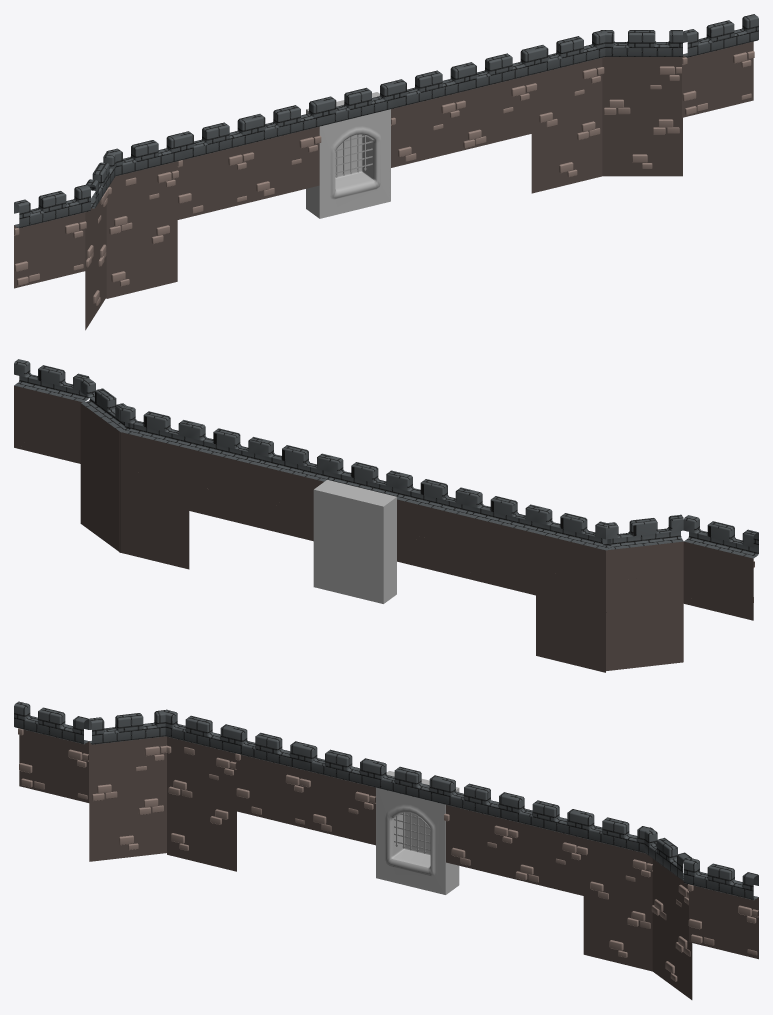
Rendered from Castle_Wall.fbx.
3 renders of one model, top to bottom at view 1: azimuth 30°, elevation 25°; view 2: azimuth 150°, elevation 25°; view 3: azimuth 330°, elevation 25°, orthographic. The views are drawn at different scales.
Parts seen in each view (by area): view 1: Plane.001 (×8), Plane (×8), polySurface2, Plane.006 (×2), Plane.005 (×2), Plane.004, Plane.003, Plane2 (×2), Plane1, gateFence; view 2: Plane.001 (×8), Plane (×8), polySurface2, Plane.005 (×2), Plane.006 (×2), Plane.004, Plane.003, Plane2 (×2), Plane1; view 3: Plane.001 (×8), Plane (×8), Plane.006 (×2), polySurface2, Plane.005 (×2), Plane.004, Plane.003, Plane2 (×2), Plane1, gateFence.
Part boxes in pixels (bbox=[...]): Plane.001 (×8): bbox=[14, 41, 753, 288]; Plane (×8): bbox=[14, 14, 758, 228]; polySurface2: bbox=[306, 92, 390, 218]; Plane.006 (×2): bbox=[85, 113, 682, 330]; Plane.005 (×2): bbox=[85, 57, 681, 269]; Plane.004: bbox=[106, 220, 177, 298]; Plane.003: bbox=[531, 114, 602, 193]; Plane2 (×2): bbox=[86, 30, 682, 208]; Plane1: bbox=[321, 81, 396, 125]; gateFence: bbox=[335, 134, 372, 177]; Plane.001 (×8): bbox=[14, 385, 753, 620]; Plane (×8): bbox=[14, 359, 758, 558]; polySurface2: bbox=[313, 479, 396, 603]; Plane.005 (×2): bbox=[80, 403, 683, 612]; Plane.006 (×2): bbox=[80, 465, 683, 670]; Plane.004: bbox=[536, 594, 605, 672]; Plane.003: bbox=[119, 491, 189, 569]; Plane2 (×2): bbox=[80, 378, 683, 550]; Plane1: bbox=[327, 456, 402, 498]; Plane.001 (×8): bbox=[19, 729, 758, 959]; Plane (×8): bbox=[14, 701, 758, 900]; Plane.006 (×2): bbox=[89, 791, 692, 999]; polySurface2: bbox=[376, 771, 459, 894]; Plane.005 (×2): bbox=[89, 736, 688, 938]; Plane.004: bbox=[167, 794, 236, 871]; Plane.003: bbox=[583, 893, 652, 971]; Plane2 (×2): bbox=[89, 709, 691, 880]; Plane1: bbox=[371, 760, 443, 803]; gateFence: bbox=[394, 812, 430, 853].
Bounding box in the file's own units: 31.41 × 5.97 × 3.52.
